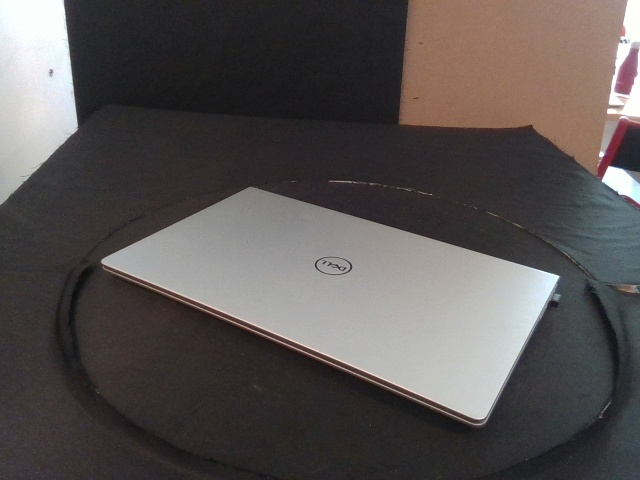laptop: (101, 186, 563, 430)
